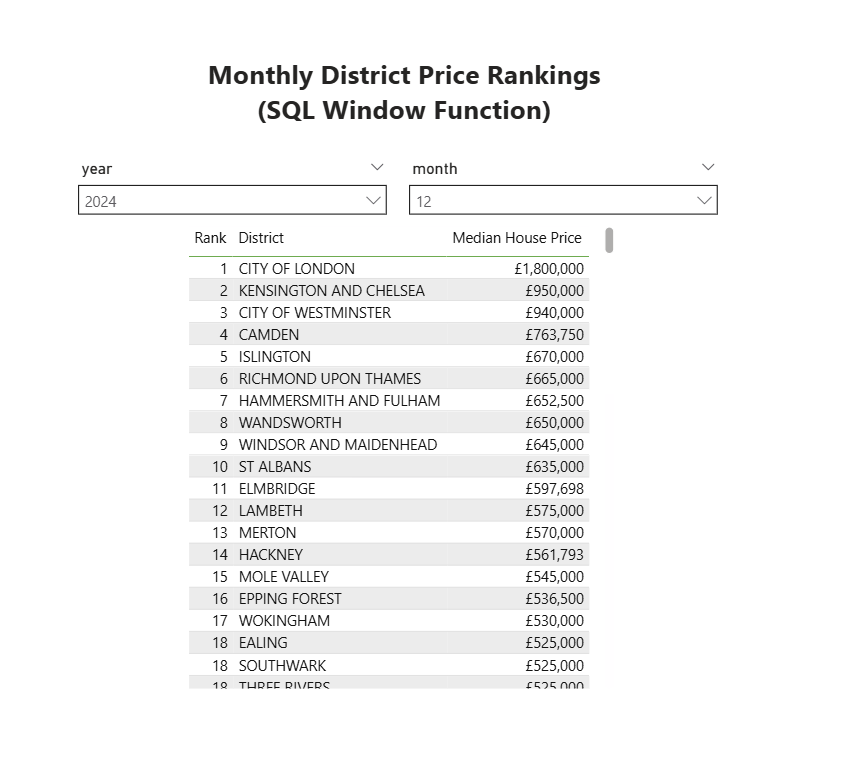

What the dashboard file says about the page in this screenshot:
{"tool":"powerbi","page":{"name":"Page 3","canvas":[1280,720],"ordinal":2},"visuals":[{"type":"tableEx","fields":{"Values":["house_data v_median_price_per_district_ranked.median_price_rank","house_data v_median_price_per_district_ranked.district_name","house_data v_median_price_per_district_ranked.median_price"]},"box":[441.2,208.9,396.5,428.9],"z":0},{"type":"slicer","fields":{"Values":["house_data v_median_price_per_district_ranked.year"]},"box":[337.3,147.4,300.5,55.8],"z":1000},{"type":"slicer","fields":{"Values":["house_data v_median_price_per_district_ranked.month"]},"box":[637.8,147.4,300.5,55.8],"z":2000},{"type":"textbox","box":[436.7,53.6,412.1,81.5],"z":3000}]}

Visuals, with their boxes on the page's 1280x720 design canvas (x1, y1, x2, y2). These are canvas units, not pixel positions in the 854x769 screenshot, which may show the page scaled, cropped or inside an application window:
tableEx - house_data v_median_price_per_district_ranked.median_price_rank x house_data v_median_price_per_district_ranked.district_name: {"left": 441, "top": 209, "right": 838, "bottom": 638}
slicer - house_data v_median_price_per_district_ranked.year: {"left": 337, "top": 147, "right": 638, "bottom": 203}
slicer - house_data v_median_price_per_district_ranked.month: {"left": 638, "top": 147, "right": 938, "bottom": 203}
textbox: {"left": 437, "top": 54, "right": 849, "bottom": 135}
